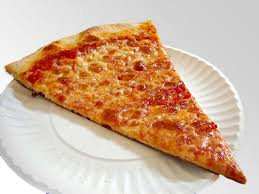pizza: (1, 17, 244, 178)
